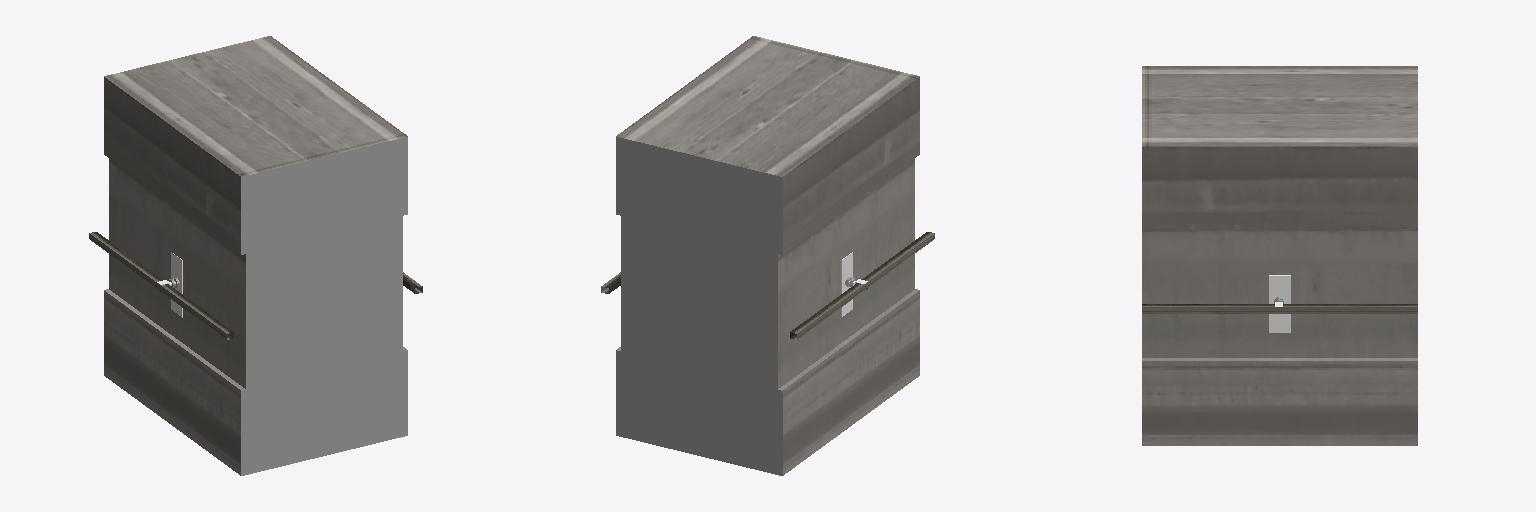
3 renders of one model, left to right at view 1: azimuth 30°, elevation 25°; view 2: azimuth 150°, elevation 25°; view 3: azimuth 270°, elevation 25°, orthographic.
Visible parts, largest first — view 1: Mesh1 mesh_0_2_1 dangui_obj_1_1 Model; view 2: Mesh1 mesh_0_2_1 dangui_obj_1_1 Model; view 3: Mesh1 mesh_0_2_1 dangui_obj_1_1 Model.
Part boxes in pixels (x1,y1,x2,y2): Mesh1 mesh_0_2_1 dangui_obj_1_1 Model: (89, 36, 422, 475); Mesh1 mesh_0_2_1 dangui_obj_1_1 Model: (601, 36, 934, 475); Mesh1 mesh_0_2_1 dangui_obj_1_1 Model: (1142, 66, 1417, 445).
Size of the model in its own units: 0.82 by 1.2 by 1.
Materials: 6 (5 with a texture image).